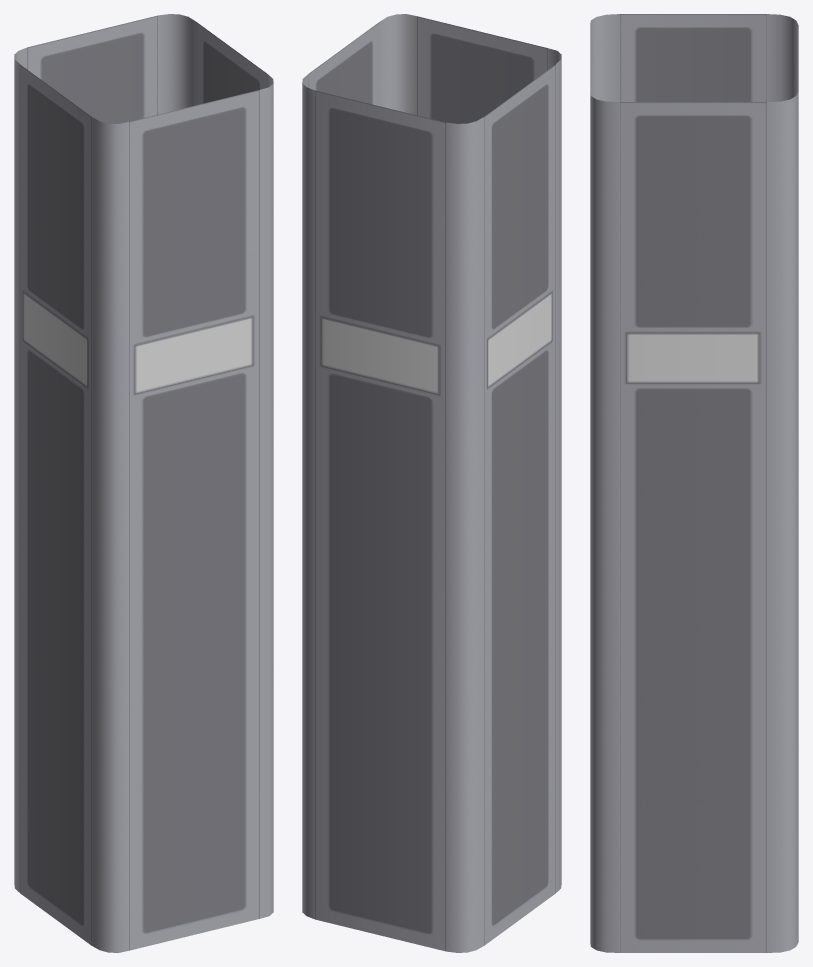
Rendered from Column_01.FBX.
The picture shows the model from 3 angles, left to right: view 1: azimuth 30°, elevation 25°; view 2: azimuth 150°, elevation 25°; view 3: azimuth 270°, elevation 25°; orthographic projection. The views are drawn at different scales.
Visible parts, largest first — view 1: Column_01; view 2: Column_01; view 3: Column_01.
Part boxes in pixels (box(x1,y1,x2,y2)): Column_01: box(14, 14, 273, 952); Column_01: box(302, 14, 561, 952); Column_01: box(590, 14, 798, 952).
Size of the model in its own units: 2 by 9 by 2.
1 material, 1 textured.
